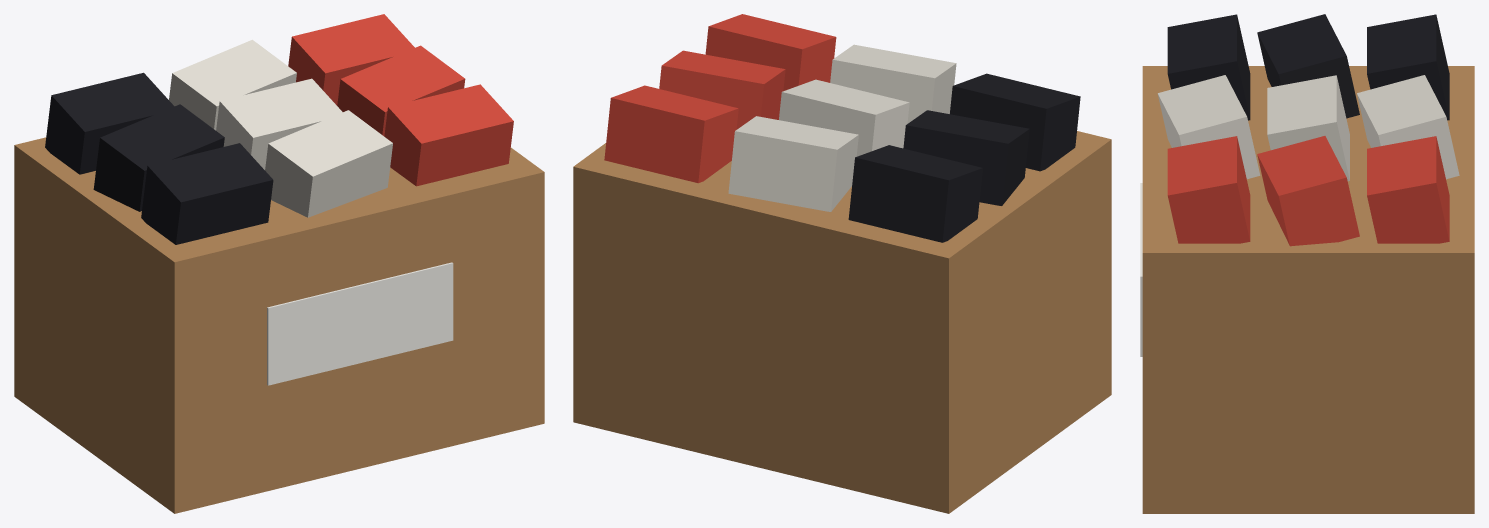
Rendered from neighbor_tapes.glb.
3 views of the same model, side by side, from view 1: azimuth 30°, elevation 25°; view 2: azimuth 150°, elevation 25°; view 3: azimuth 270°, elevation 25° (orthographic). The views are drawn at different scales.
Parts seen in each view (by area): view 1: box_tape_box, tapes, label_white; view 2: box_tape_box, tapes; view 3: box_tape_box, tapes, label_white.
Boxes of the visible parts, x1,y1,x2,y2 form: box_tape_box: [14, 137, 544, 513]; tapes: [45, 14, 513, 244]; label_white: [267, 262, 453, 385]; box_tape_box: [573, 131, 1111, 513]; tapes: [604, 14, 1080, 242]; box_tape_box: [1142, 66, 1474, 513]; tapes: [1157, 14, 1459, 246]; label_white: [1140, 183, 1142, 356].
Size of the model in its own units: 0.4 by 0.3226 by 0.302.
